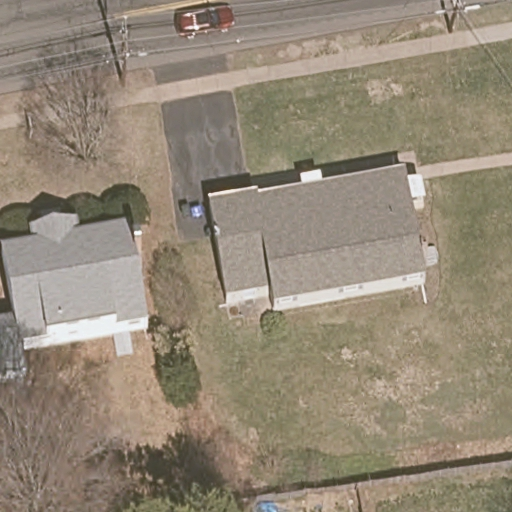DT: (103, 15, 147, 87), (436, 1, 481, 33)
